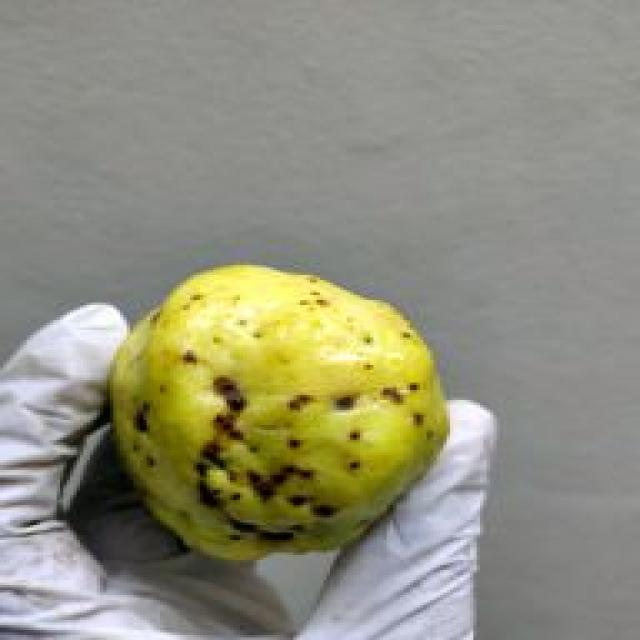Bad_Guava: (110, 265, 448, 559)
